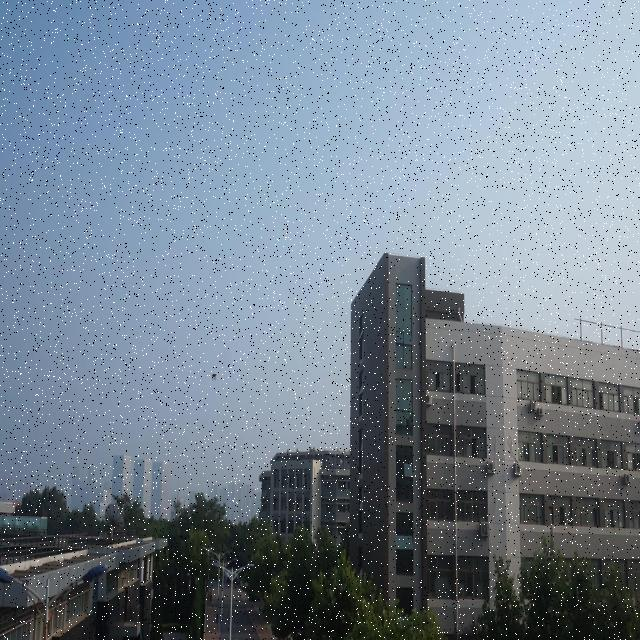UAV: (211, 373, 217, 381)
